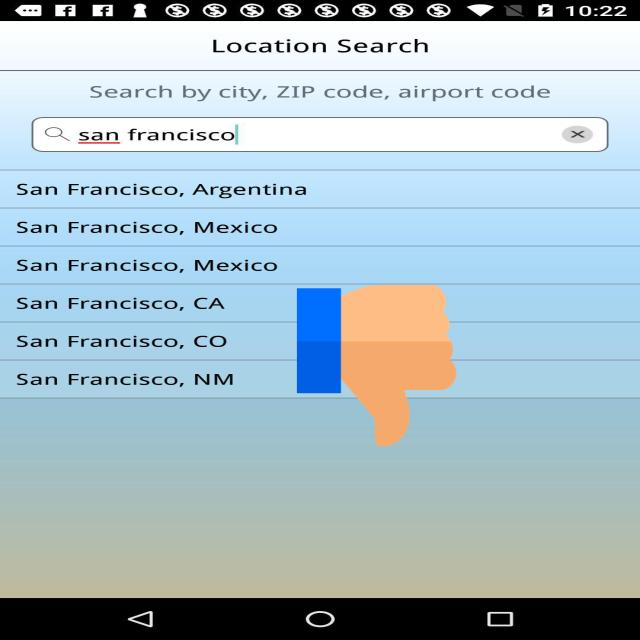obstruction: (297, 281, 456, 451)
